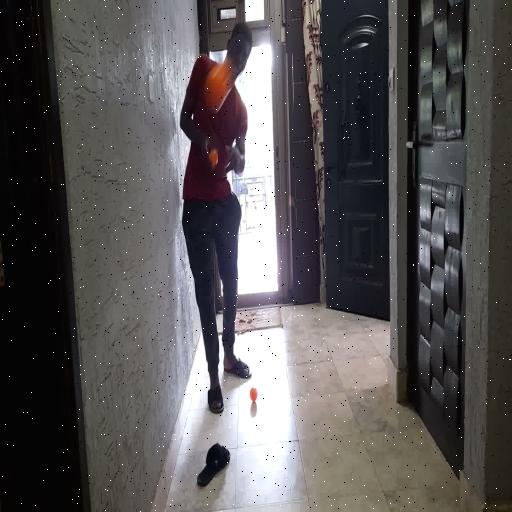plastic-ball: (204, 57, 234, 112)
